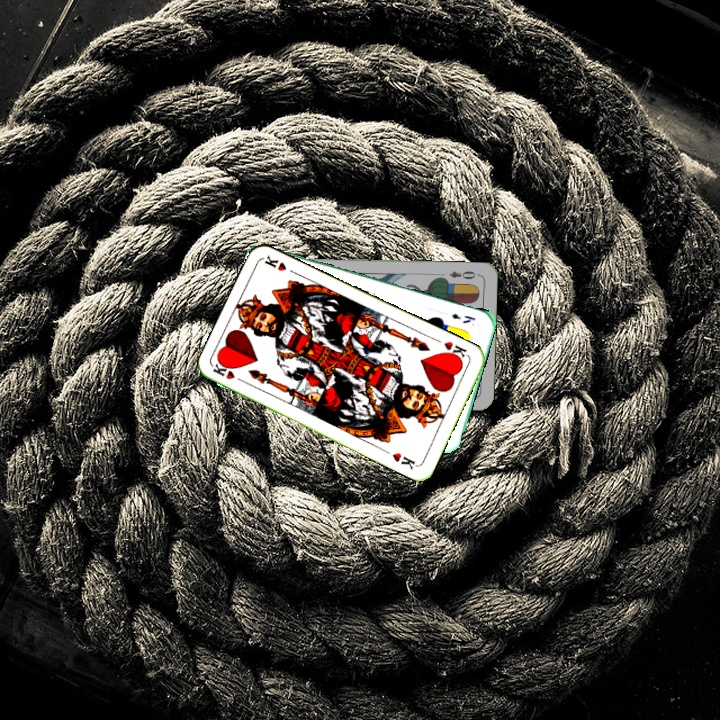EK: (448, 309, 478, 326)
EO: (445, 267, 481, 281)
HK: (209, 359, 249, 386), (440, 337, 469, 364)
